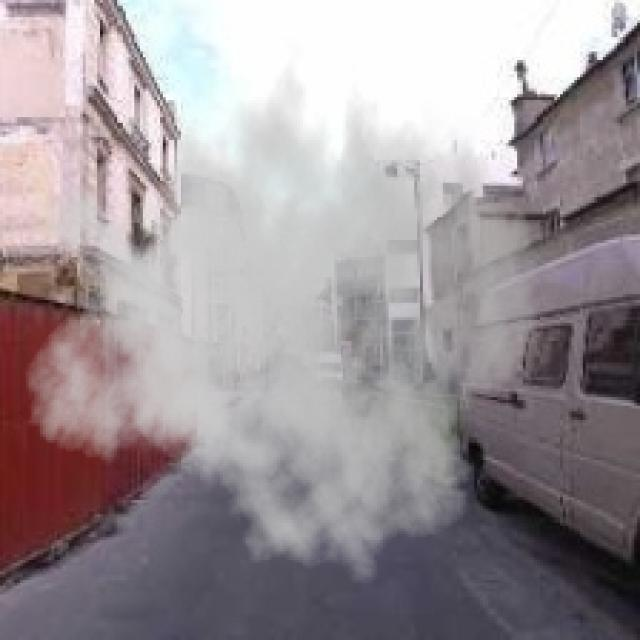Smoke: (23, 37, 540, 597)
